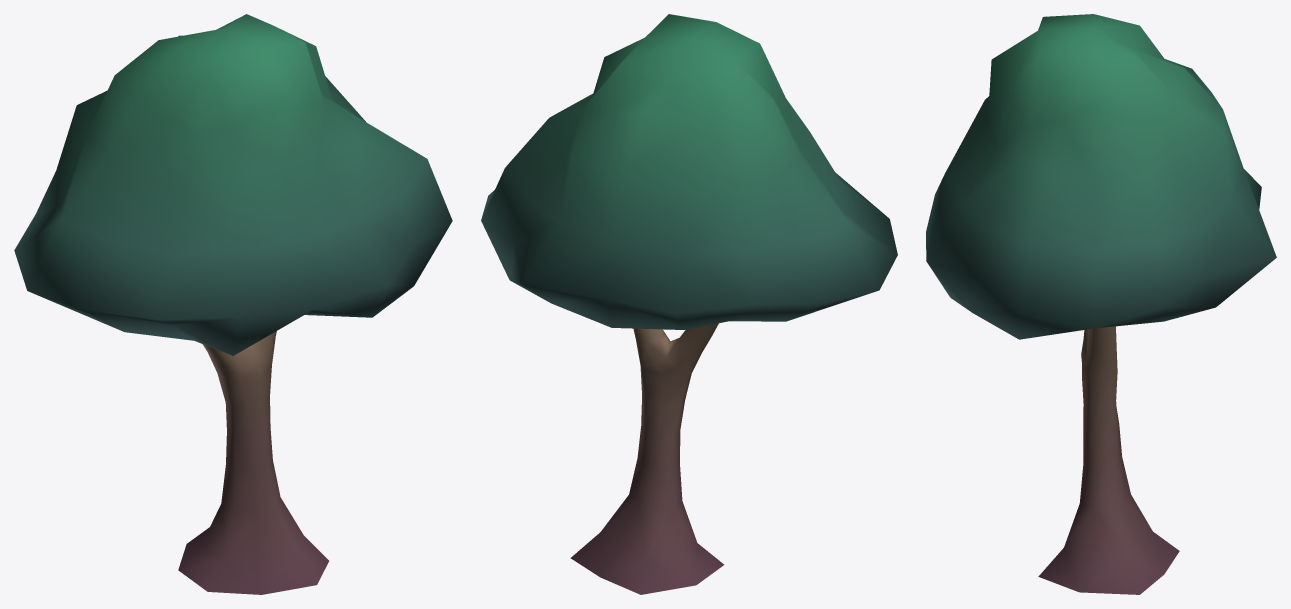
The model's file is Tree_A.fbx.
The picture shows the model from 3 angles, left to right: view 1: azimuth 30°, elevation 25°; view 2: azimuth 150°, elevation 25°; view 3: azimuth 270°, elevation 25°; orthographic projection. The views are drawn at different scales.
Parts seen in each view (by area): view 1: MDL_Tree_A; view 2: MDL_Tree_A; view 3: MDL_Tree_A.
Part boxes in pixels (x1,y1,x2,y2): MDL_Tree_A: (14,14,452,594); MDL_Tree_A: (481,14,897,594); MDL_Tree_A: (926,14,1276,594).
Size of the model in its own units: 3.21 by 4.16 by 2.51.
